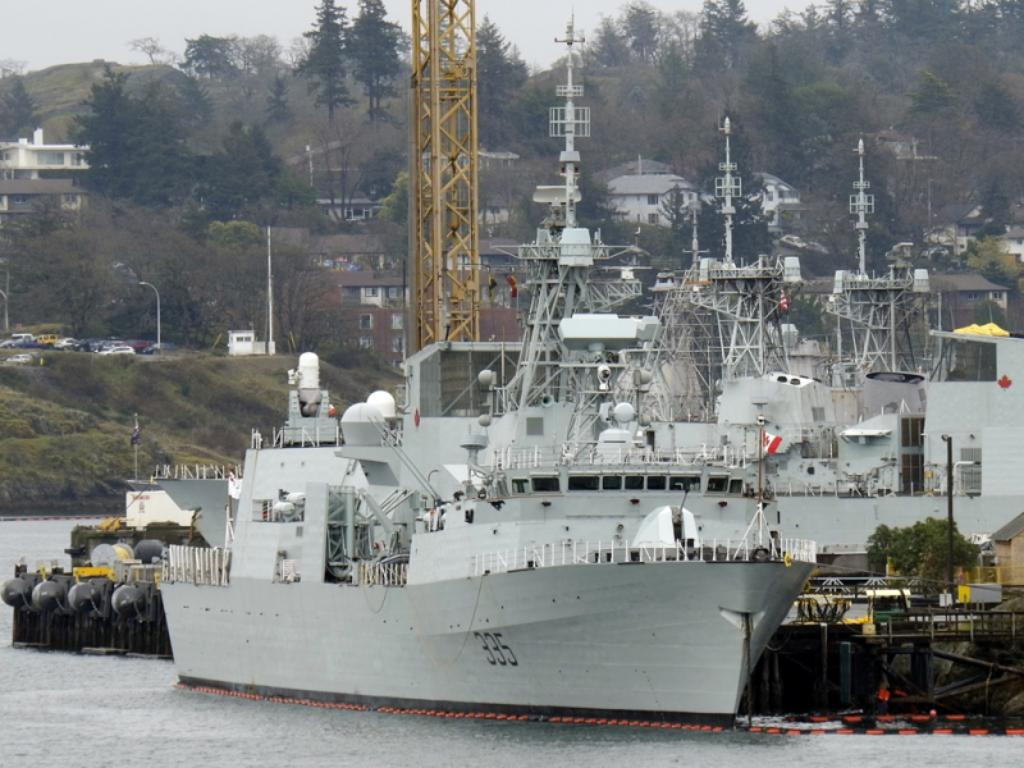Warship: (146, 17, 822, 732)
